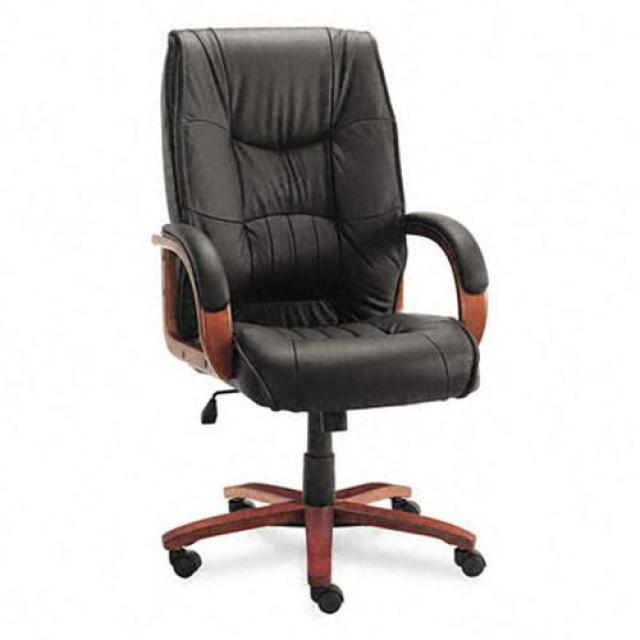swivelchair: (152, 27, 490, 616)
